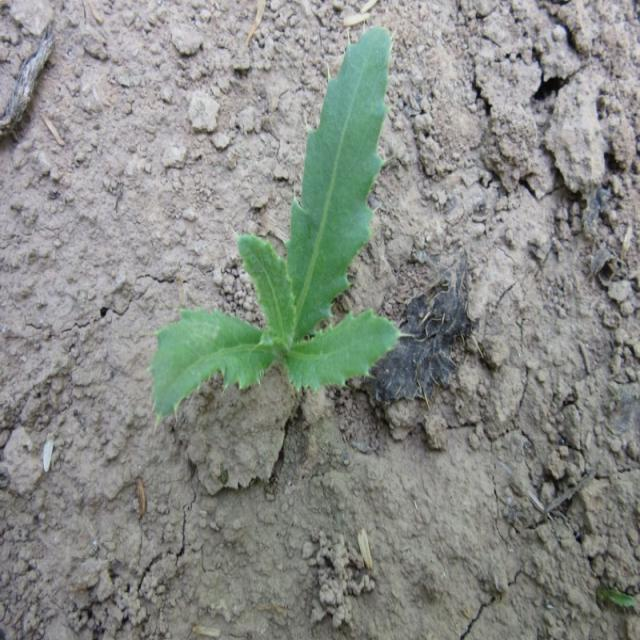cs: (151, 22, 412, 430)
